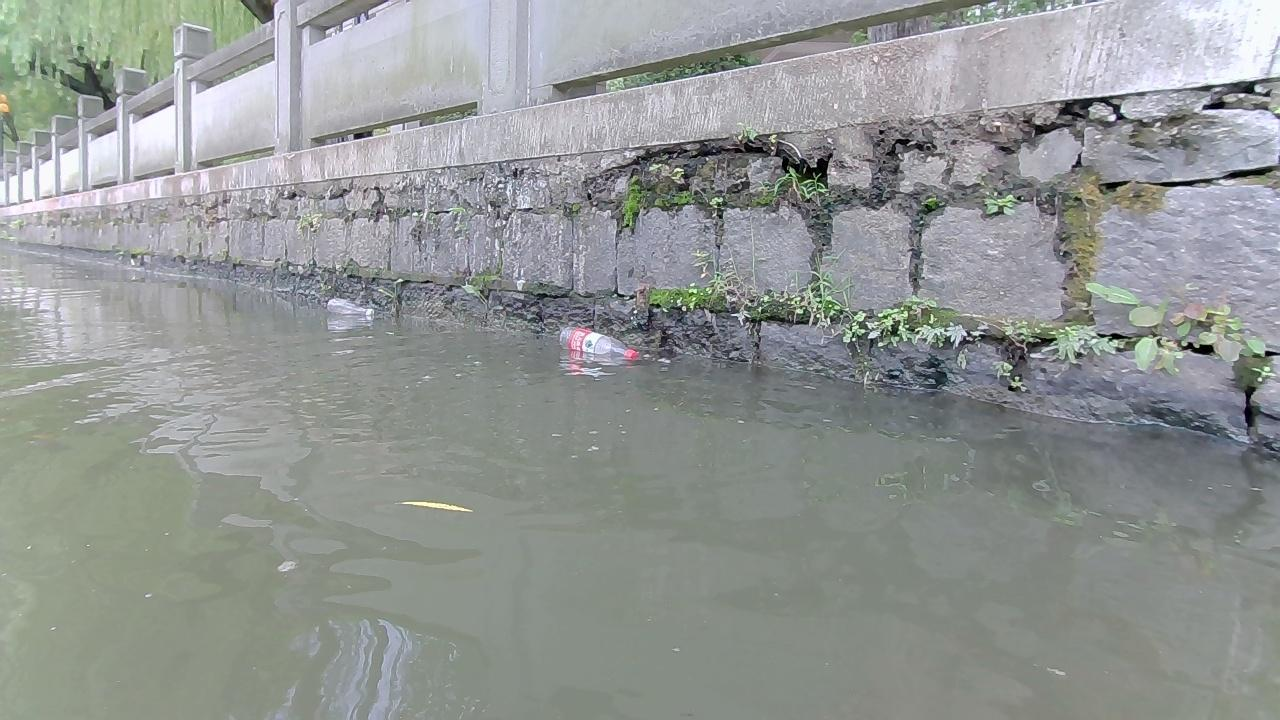bottle: (558, 326, 638, 359), (325, 297, 374, 314)
